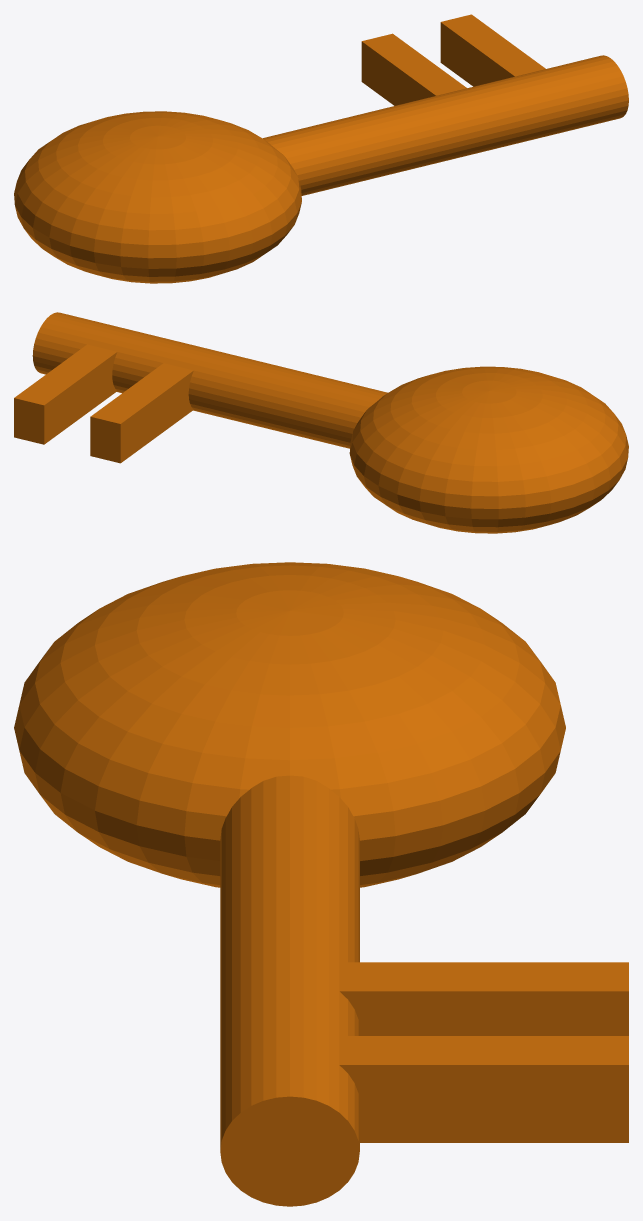
Rendered from key.obj.
The picture shows the model from 3 angles, top to bottom: view 1: azimuth 30°, elevation 25°; view 2: azimuth 150°, elevation 25°; view 3: azimuth 270°, elevation 25°; orthographic projection. The views are drawn at different scales.
Visible parts, largest first — view 1: 球, 円柱, 立方体, 立方体.001; view 2: 球, 円柱, 立方体, 立方体.001; view 3: 球, 円柱, 立方体.001, 立方体.
Part boxes in pixels (box(x1,y1,x2,y2)): 球: box(14, 111, 301, 283); 円柱: box(263, 55, 628, 195); 立方体: box(361, 33, 466, 105); 立方体.001: box(440, 14, 545, 86); 球: box(349, 366, 628, 533); 円柱: box(32, 312, 387, 448); 立方体: box(90, 363, 193, 463); 立方体.001: box(14, 344, 116, 444); 球: box(14, 562, 565, 887); 円柱: box(220, 775, 359, 1206); 立方体.001: box(339, 1036, 628, 1142); 立方体: box(339, 962, 628, 1035).
Bounding box in the file's own units: 0.7329 × 0.1479 × 0.3521.
